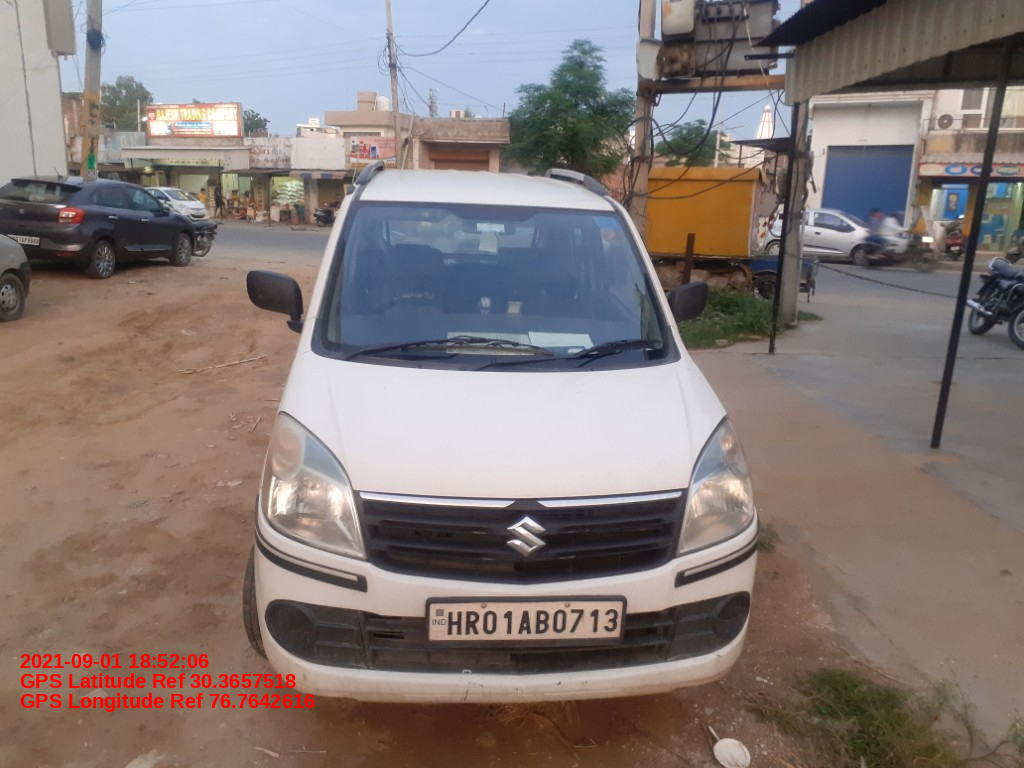Scratched: (290, 661, 331, 695), (552, 675, 603, 693), (507, 680, 536, 701), (460, 674, 479, 705), (708, 648, 736, 668)
